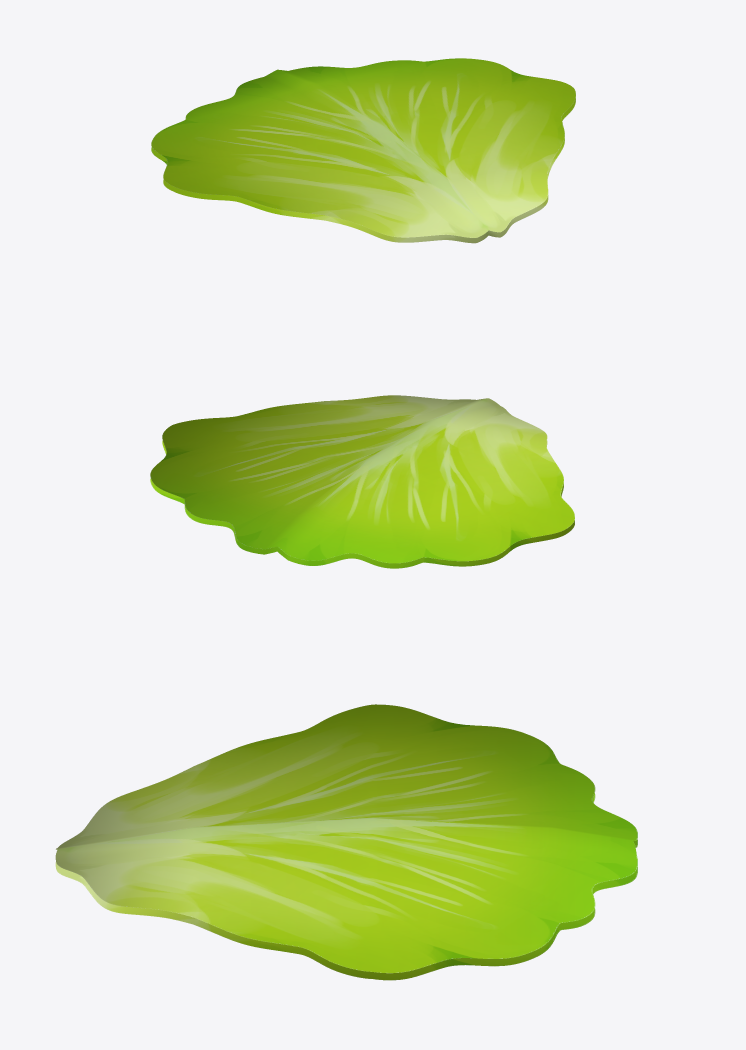
File: Lettuce.fbx
3 views of the same model, one above another, from view 1: azimuth 30°, elevation 25°; view 2: azimuth 150°, elevation 25°; view 3: azimuth 270°, elevation 25° (orthographic). The views are drawn at different scales.
Visible parts, largest first — view 1: Lettuce; view 2: Lettuce; view 3: Lettuce.
Part boxes in pixels (bbox=[...]): Lettuce: bbox=[151, 58, 575, 243]; Lettuce: bbox=[150, 395, 574, 568]; Lettuce: bbox=[55, 704, 637, 980].
Bounding box in the file's own units: 55.11 × 5.52 × 55.11.
Materials: 1 (1 with a texture image).
